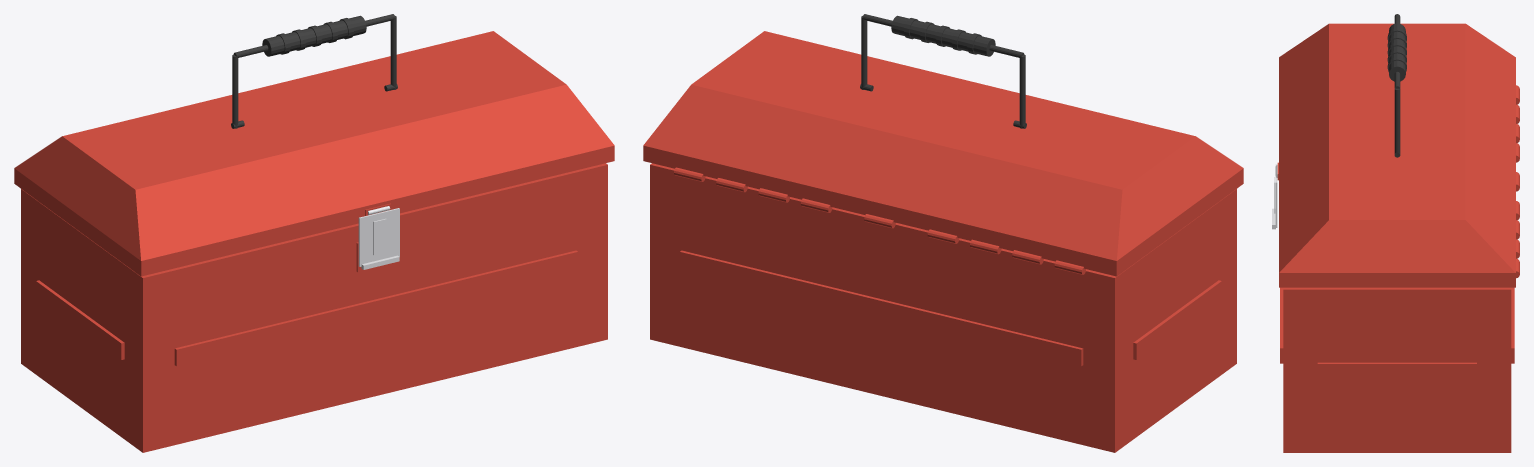
The picture shows the model from 3 angles, left to right: view 1: azimuth 30°, elevation 25°; view 2: azimuth 150°, elevation 25°; view 3: azimuth 270°, elevation 25°; orthographic projection. The views are drawn at different scales.
Visible parts, largest first — view 1: body, lid, handle, latch; view 2: body, lid, handle; view 3: lid, body, handle, latch.
Boxes of the visible parts, x1,y1,x2,y2 form: body: (21,163,607,452); lid: (14,31,614,276); handle: (231,14,397,128); latch: (358,206,399,269); body: (650,163,1236,452); lid: (643,31,1243,276); handle: (860,14,1026,128); lid: (1277,23,1519,287); body: (1280,104,1519,452); handle: (1387,14,1406,157); latch: (1272,164,1277,229).
Bounding box in the file's own units: 0.448 × 0.2935 × 0.2175.
